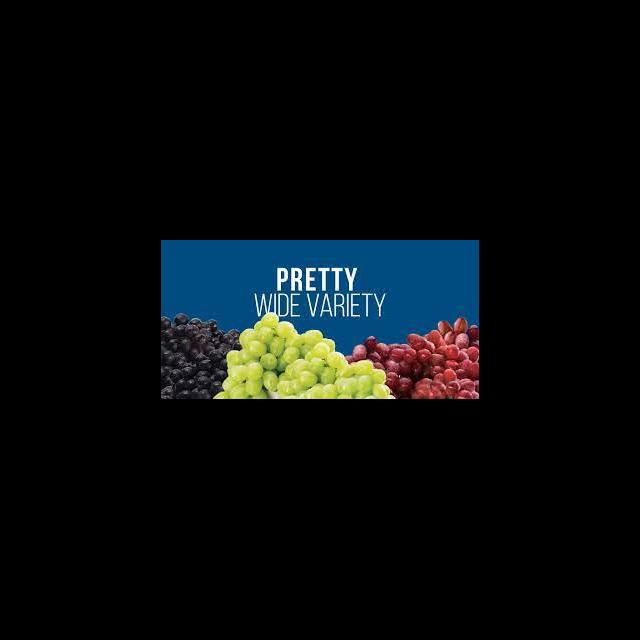grape: (212, 312, 396, 398), (345, 317, 478, 398), (161, 312, 241, 398)
